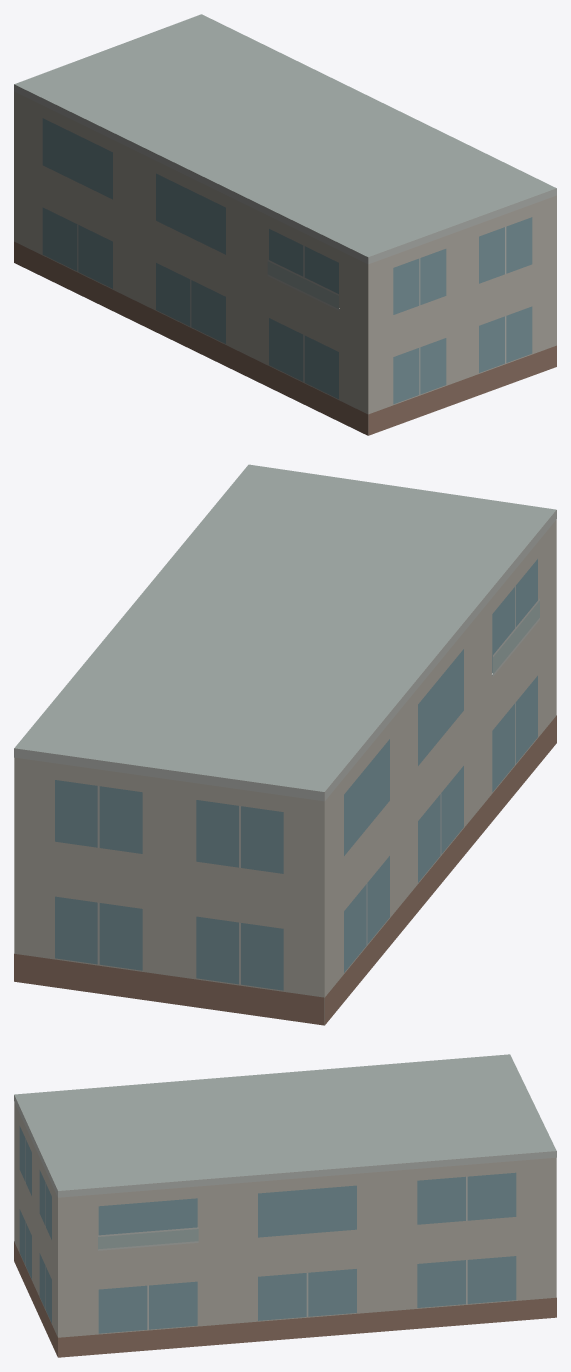
Rendered from survey-upis-32696574.glb.
3 renders of one model, top to bottom at view 1: azimuth 30°, elevation 25°; view 2: azimuth 150°, elevation 25°; view 3: azimuth 270°, elevation 25°, orthographic. The views are drawn at different scales.
Parts seen in each view (by area): view 1: survey-upis-32696574.tmp; view 2: survey-upis-32696574.tmp; view 3: survey-upis-32696574.tmp.
Boxes of the visible parts, x1,y1,x2,y2 form: survey-upis-32696574.tmp: (14,14,556,435); survey-upis-32696574.tmp: (14,464,556,1025); survey-upis-32696574.tmp: (14,1054,556,1357).
Bounding box in the file's own units: 10.76 × 6.1 × 18.02.
